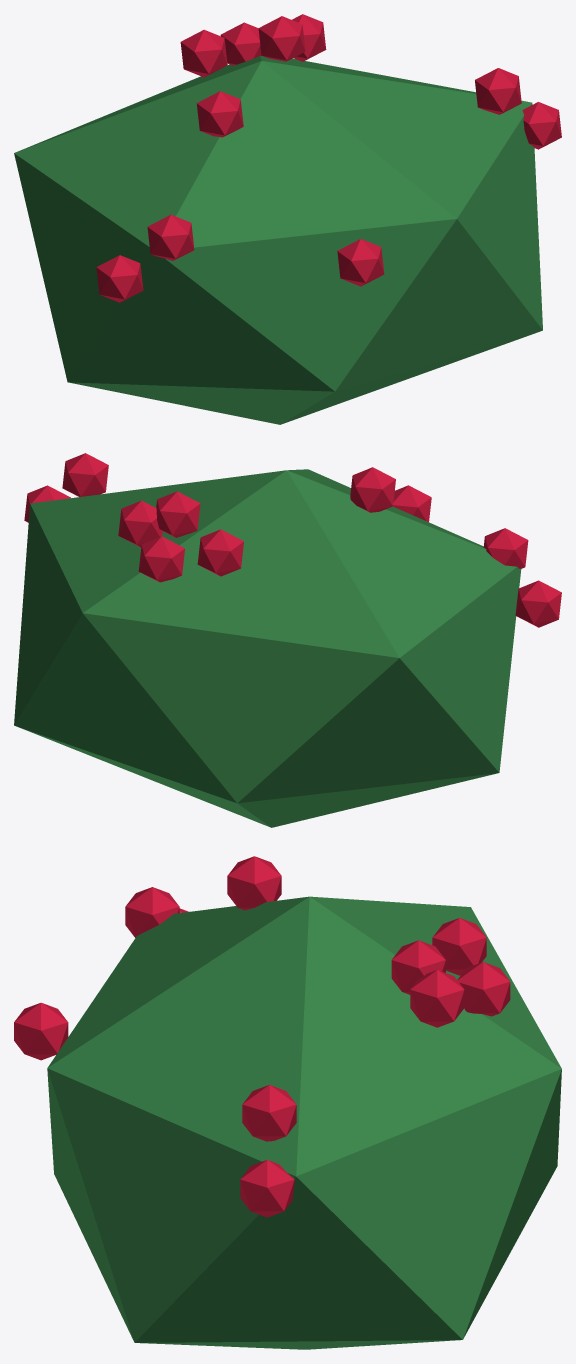
File: nature2_bush_berries.glb
3 views of the same model, one above another, from view 1: azimuth 30°, elevation 25°; view 2: azimuth 150°, elevation 25°; view 3: azimuth 270°, elevation 25° (orthographic). The views are drawn at different scales.
Visible parts, largest first — view 1: bush_berries; view 2: bush_berries; view 3: bush_berries.
Boxes of the visible parts, x1,y1,x2,y2 form: bush_berries: [14, 14, 561, 424]; bush_berries: [14, 453, 561, 827]; bush_berries: [14, 856, 561, 1349].
Size of the model in its own units: 1.31 by 0.9244 by 1.03.
